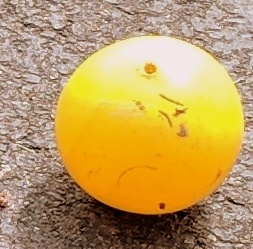ball: (56, 36, 243, 215)
